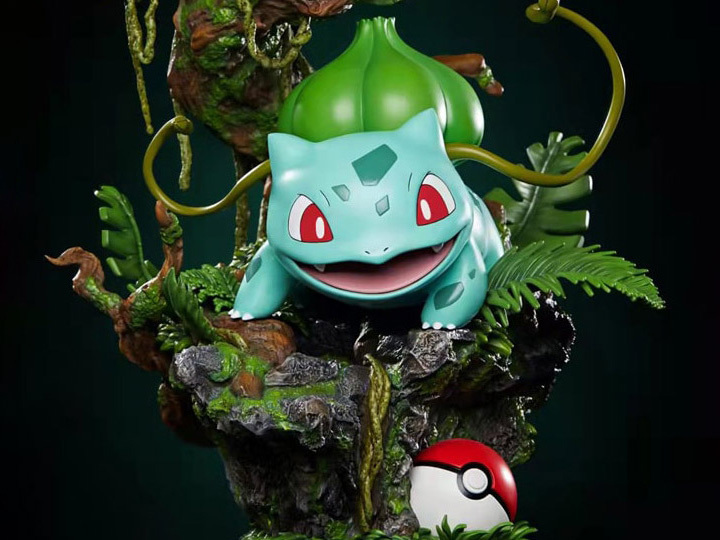001-bulbasaur: (218, 11, 521, 340)
